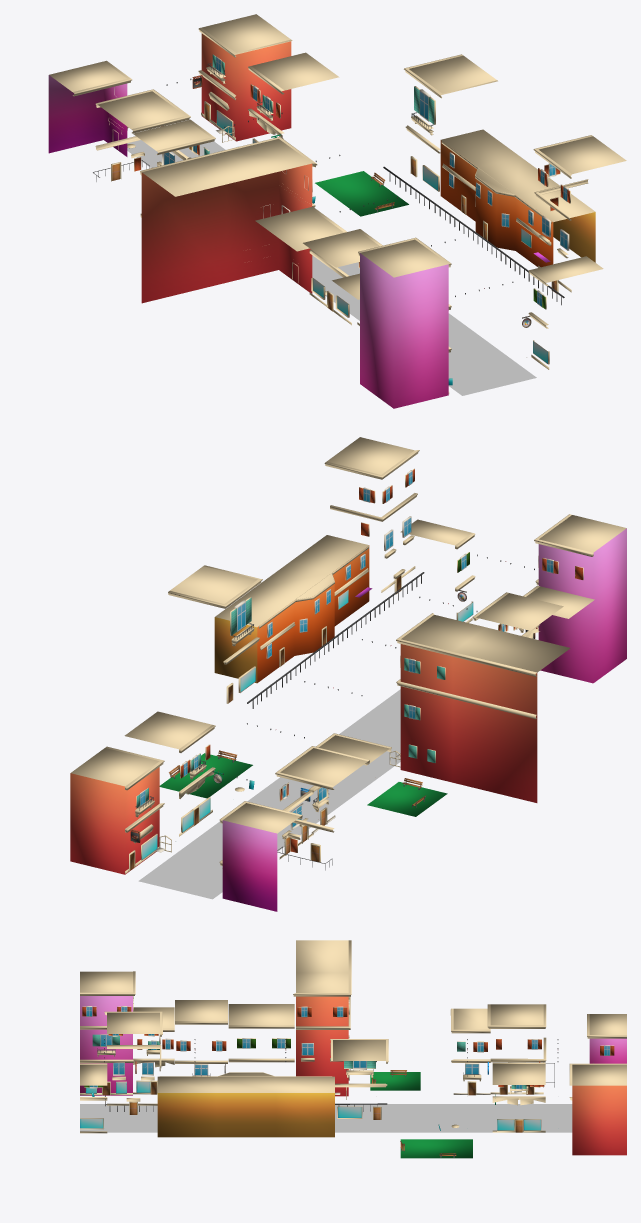
File: New wired City 1.fbx
3 views of the same model, one above another, from view 1: azimuth 30°, elevation 25°; view 2: azimuth 150°, elevation 25°; view 3: azimuth 270°, elevation 25° (orthographic). The views are drawn at different scales.
Parts seen in each view (by area): view 1: city, road1; view 2: city, road1; view 3: city, road1.
Part boxes in pixels (left/top/right/bottom): city: left=48, top=14, right=626, bottom=408; road1: left=127, top=140, right=536, bottom=395; city: left=70, top=437, right=626, bottom=911; road1: left=138, top=689, right=400, bottom=899; city: left=80, top=940, right=626, bottom=1158; road1: left=80, top=1104, right=572, bottom=1132.
Bounding box in the file's own units: 1975 × 697 × 2710.
